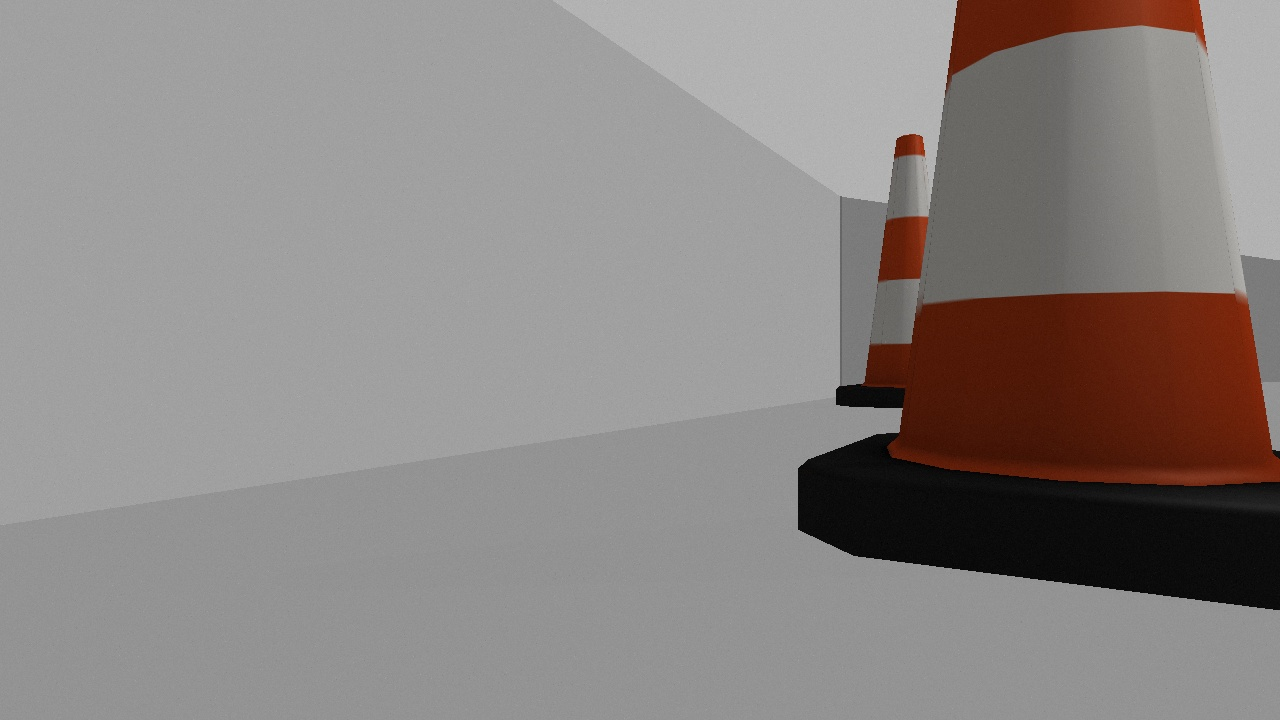barricade: (798, 1, 1280, 606), (835, 133, 971, 407)
